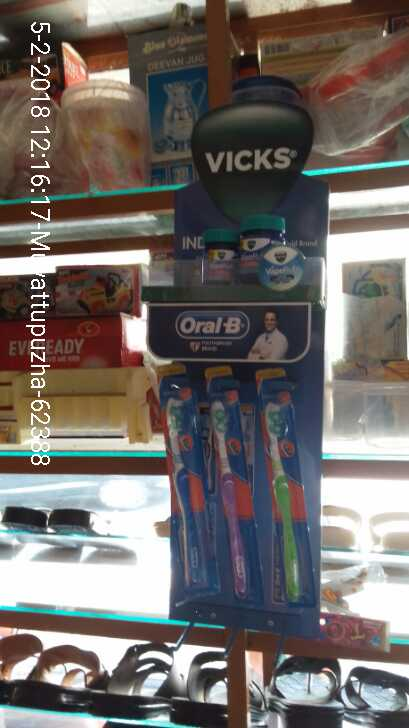oralb: (203, 367, 266, 604), (257, 369, 317, 610), (158, 363, 220, 595)
